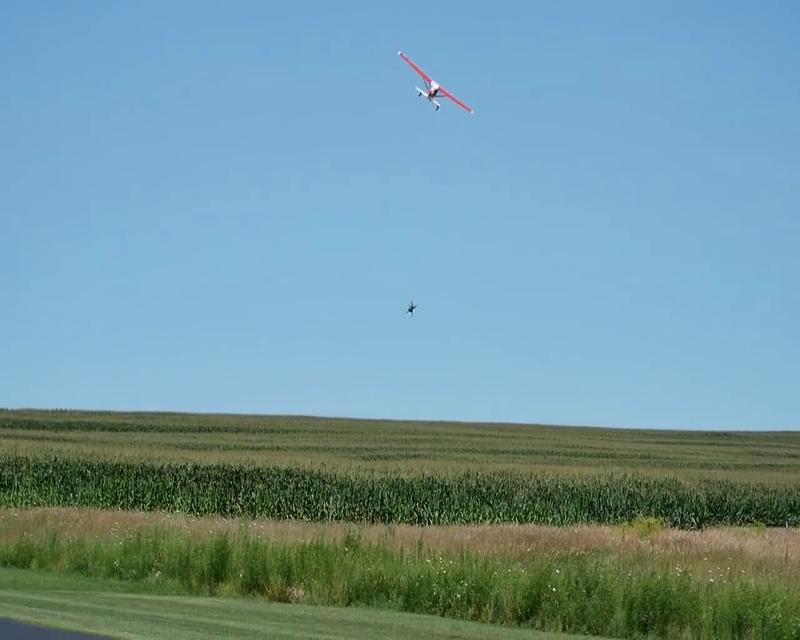UAV: (396, 49, 473, 114), (406, 301, 418, 319)
